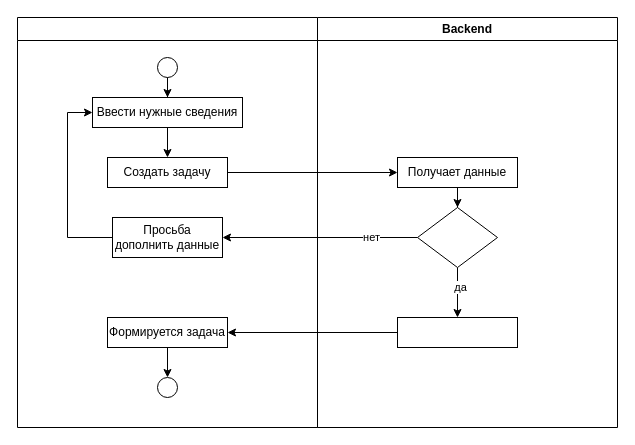
The diagram is 635 pixels wide and 445 high, and some of its shapes have lost their labels. The centre of each missing label's shape, as x and y in pixels:
"Frontend" goes at (167,222).
"Данные полные?" goes at (457,237).
"Отправляет данные подчинённому" goes at (457,332).
